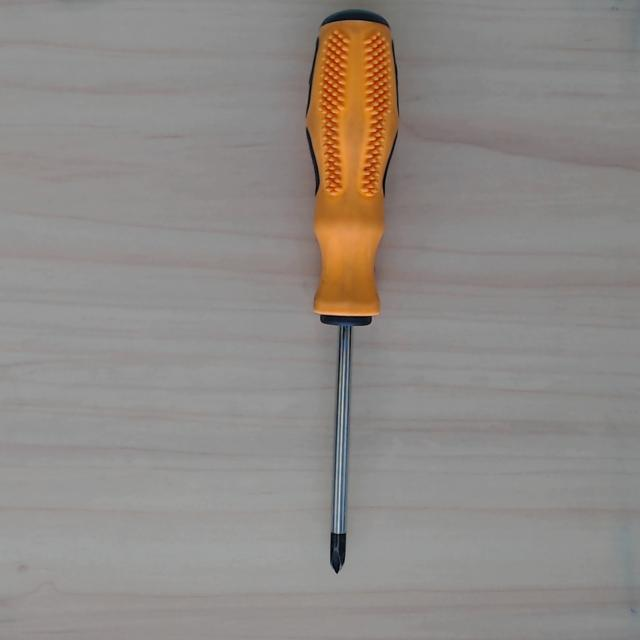Obeng-Besar: (302, 8, 415, 574)
